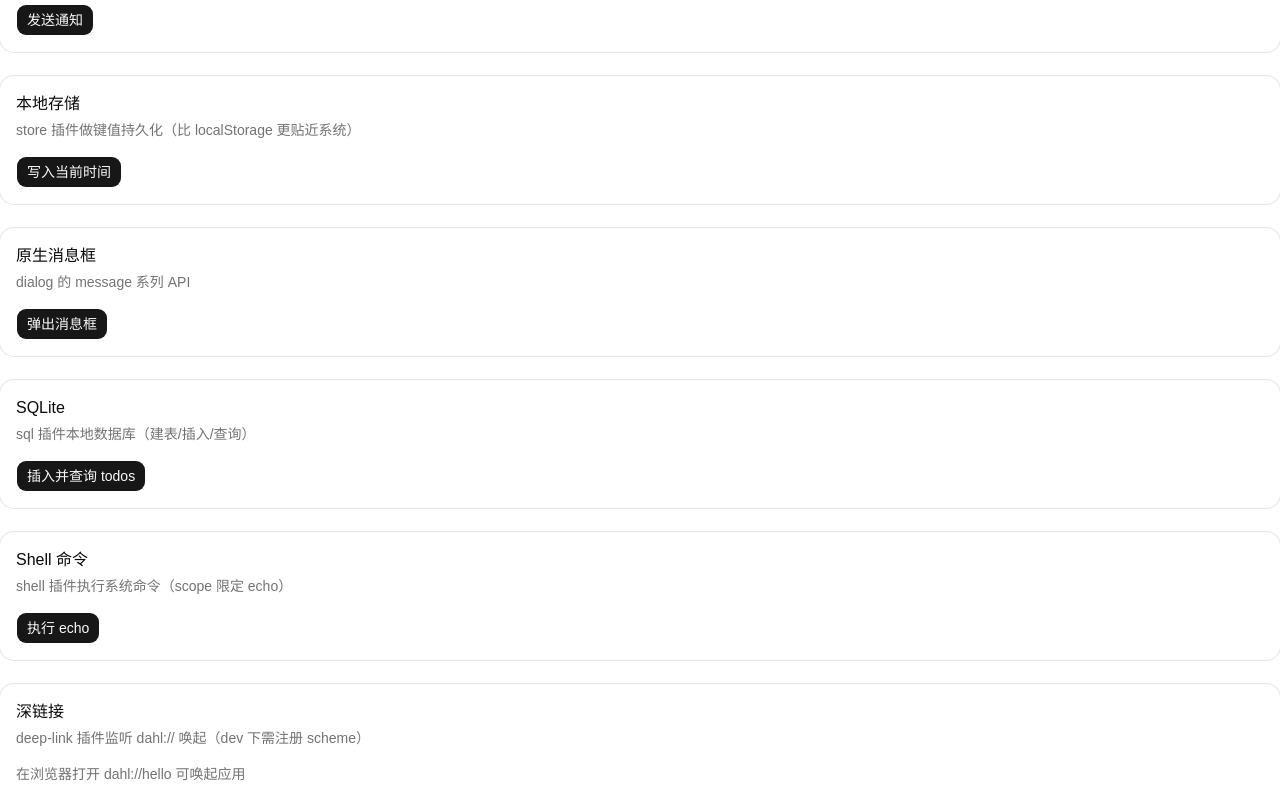
Test: CapabilitiesPage › SQLite 插入查询后展示 todo 列表
The width and height of the screenshot is (1280, 787).
(page scrolled)
Click the button "插入并查询 todos": (81, 476) left=16, top=460, right=146, bottom=492
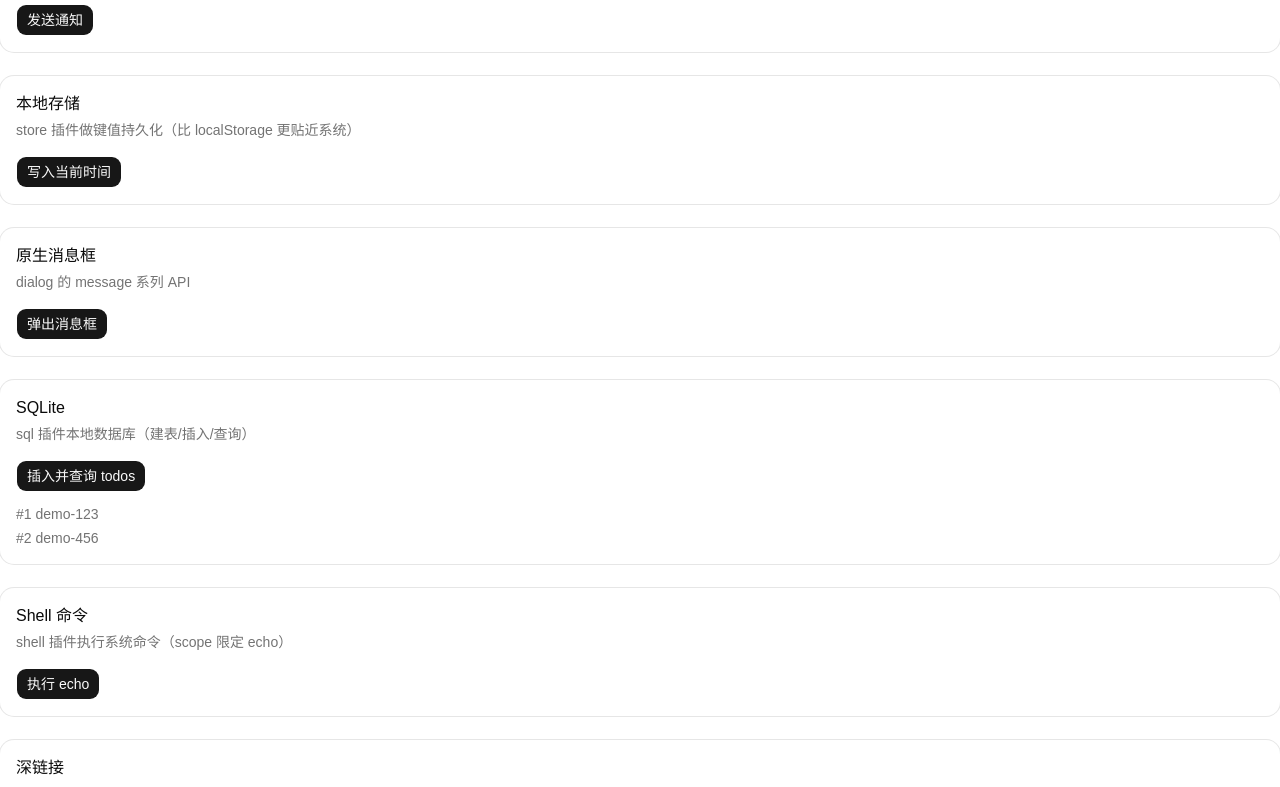
Expected: the list item "#1 demo-123" is shown, left=16, top=506, right=98, bottom=522
Expected: the list item "#2 demo-456" is shown, left=16, top=530, right=98, bottom=546
